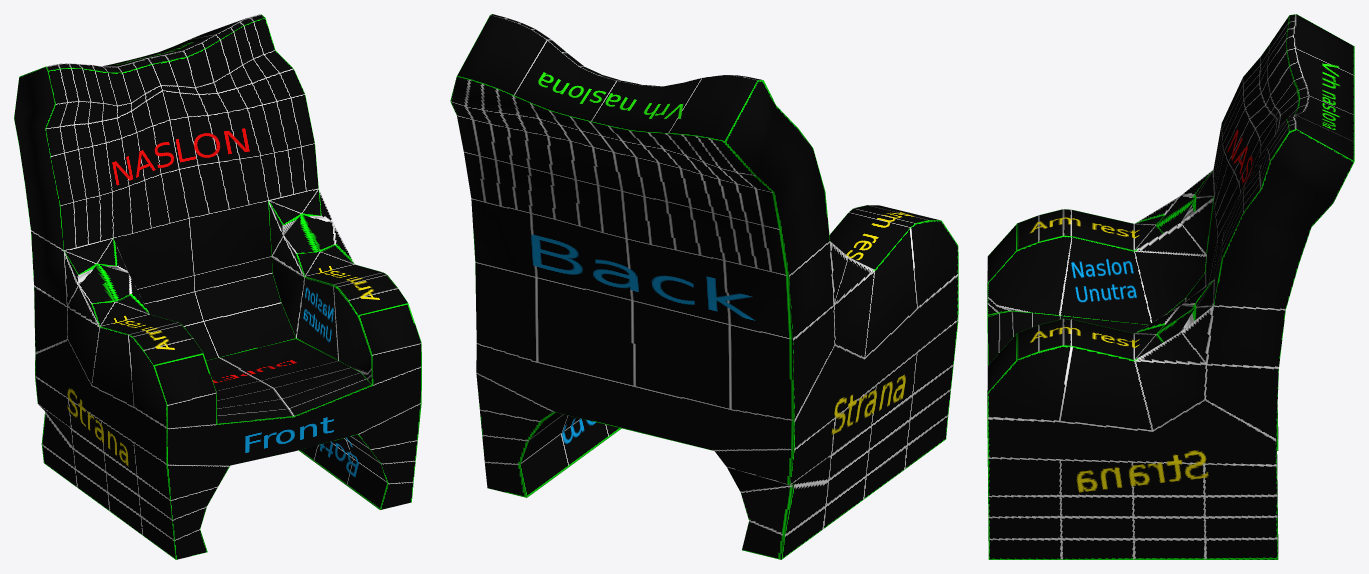
File: fotelj.FBX
The picture shows the model from 3 angles, left to right: view 1: azimuth 30°, elevation 25°; view 2: azimuth 150°, elevation 25°; view 3: azimuth 270°, elevation 25°; orthographic projection. The views are drawn at different scales.
Parts seen in each view (by area): view 1: Box001; view 2: Box001; view 3: Box001.
Part boxes in pixels (left/top/right/bottom): Box001: left=14, top=14, right=421, bottom=559; Box001: left=450, top=14, right=958, bottom=559; Box001: left=987, top=14, right=1354, bottom=559.
Bounding box in the file's own units: 45.17 × 51.48 × 65.75.
Materials: 1 (1 with a texture image).
